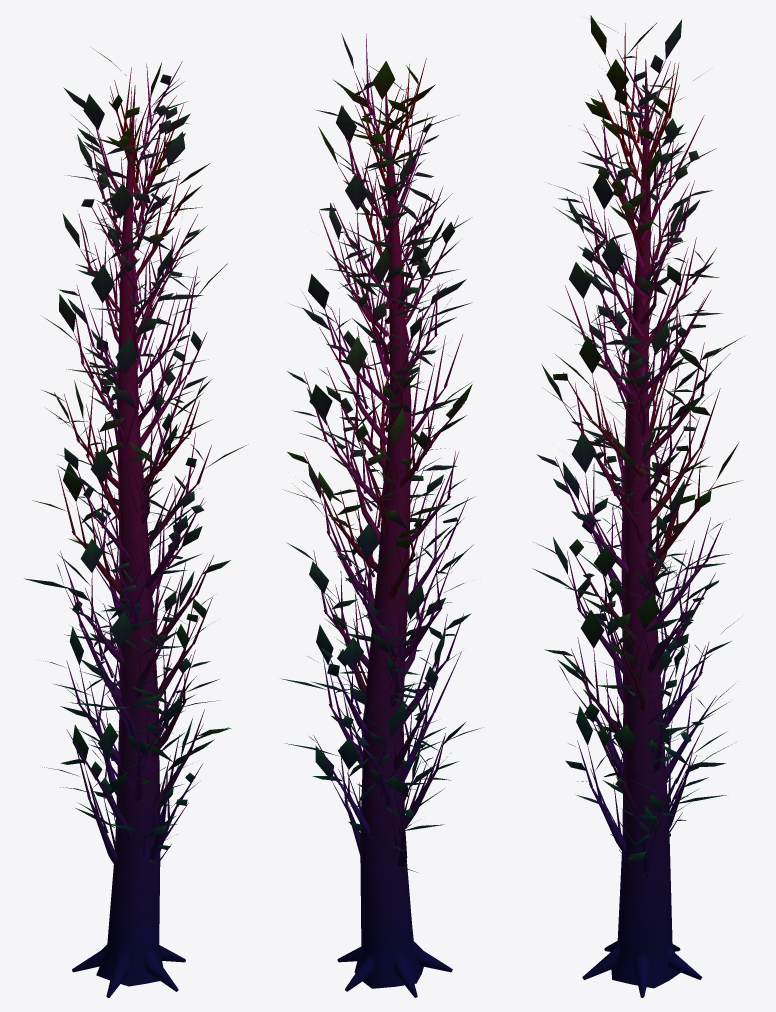
File: cypress_lod1.glb
3 renders of one model, left to right at view 1: azimuth 30°, elevation 25°; view 2: azimuth 150°, elevation 25°; view 3: azimuth 270°, elevation 25°, orthographic. The views are drawn at different scales.
Visible parts, largest first — view 1: cypress_lod1; view 2: cypress_lod1; view 3: cypress_lod1.
Part boxes in pixels (x1,y1,x2,y2): cypress_lod1: [24, 48, 248, 997]; cypress_lod1: [281, 33, 480, 997]; cypress_lod1: [532, 15, 745, 997].
Size of the model in its own units: 2.03 by 9.13 by 2.
2 materials, 2 textured.
